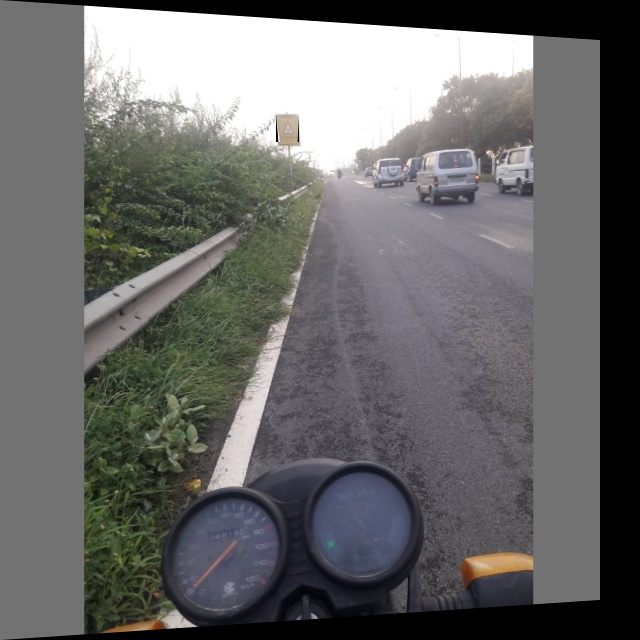Narrow_Bridge: (276, 114, 299, 142)
